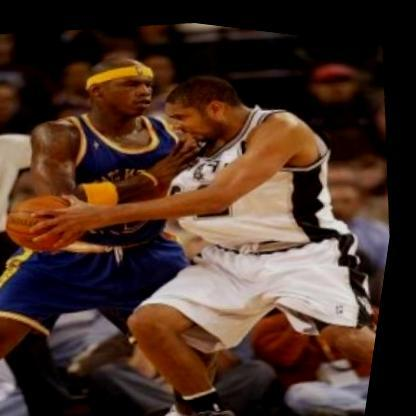basketball: (0, 177, 100, 264)
